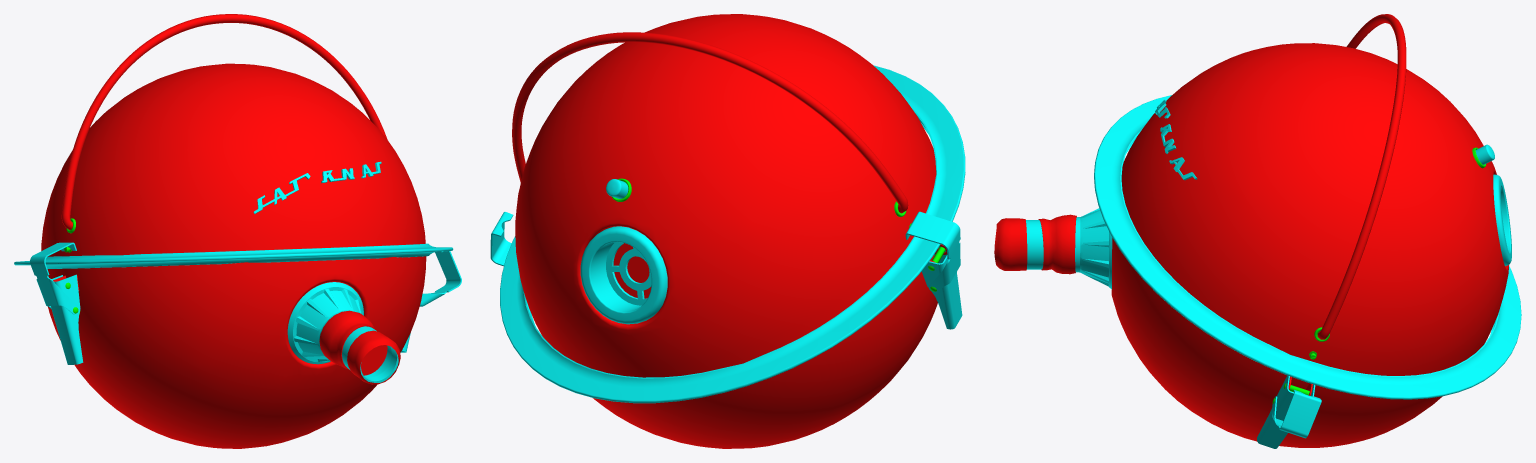
The model's file is Vacuum.fbx.
The picture shows the model from 3 angles, left to right: view 1: azimuth 30°, elevation 25°; view 2: azimuth 150°, elevation 25°; view 3: azimuth 270°, elevation 25°; orthographic projection. The views are drawn at different scales.
Parts seen in each view (by area): view 1: SM_Vacuum_Cleaner_01_LOD0; view 2: SM_Vacuum_Cleaner_01_LOD0; view 3: SM_Vacuum_Cleaner_01_LOD0.
Boxes of the visible parts, x1,y1,x2,y2 form: SM_Vacuum_Cleaner_01_LOD0: [14, 14, 461, 448]; SM_Vacuum_Cleaner_01_LOD0: [490, 14, 965, 448]; SM_Vacuum_Cleaner_01_LOD0: [994, 14, 1521, 448].
Size of the model in its own units: 41.42 by 36.2 by 43.57.
